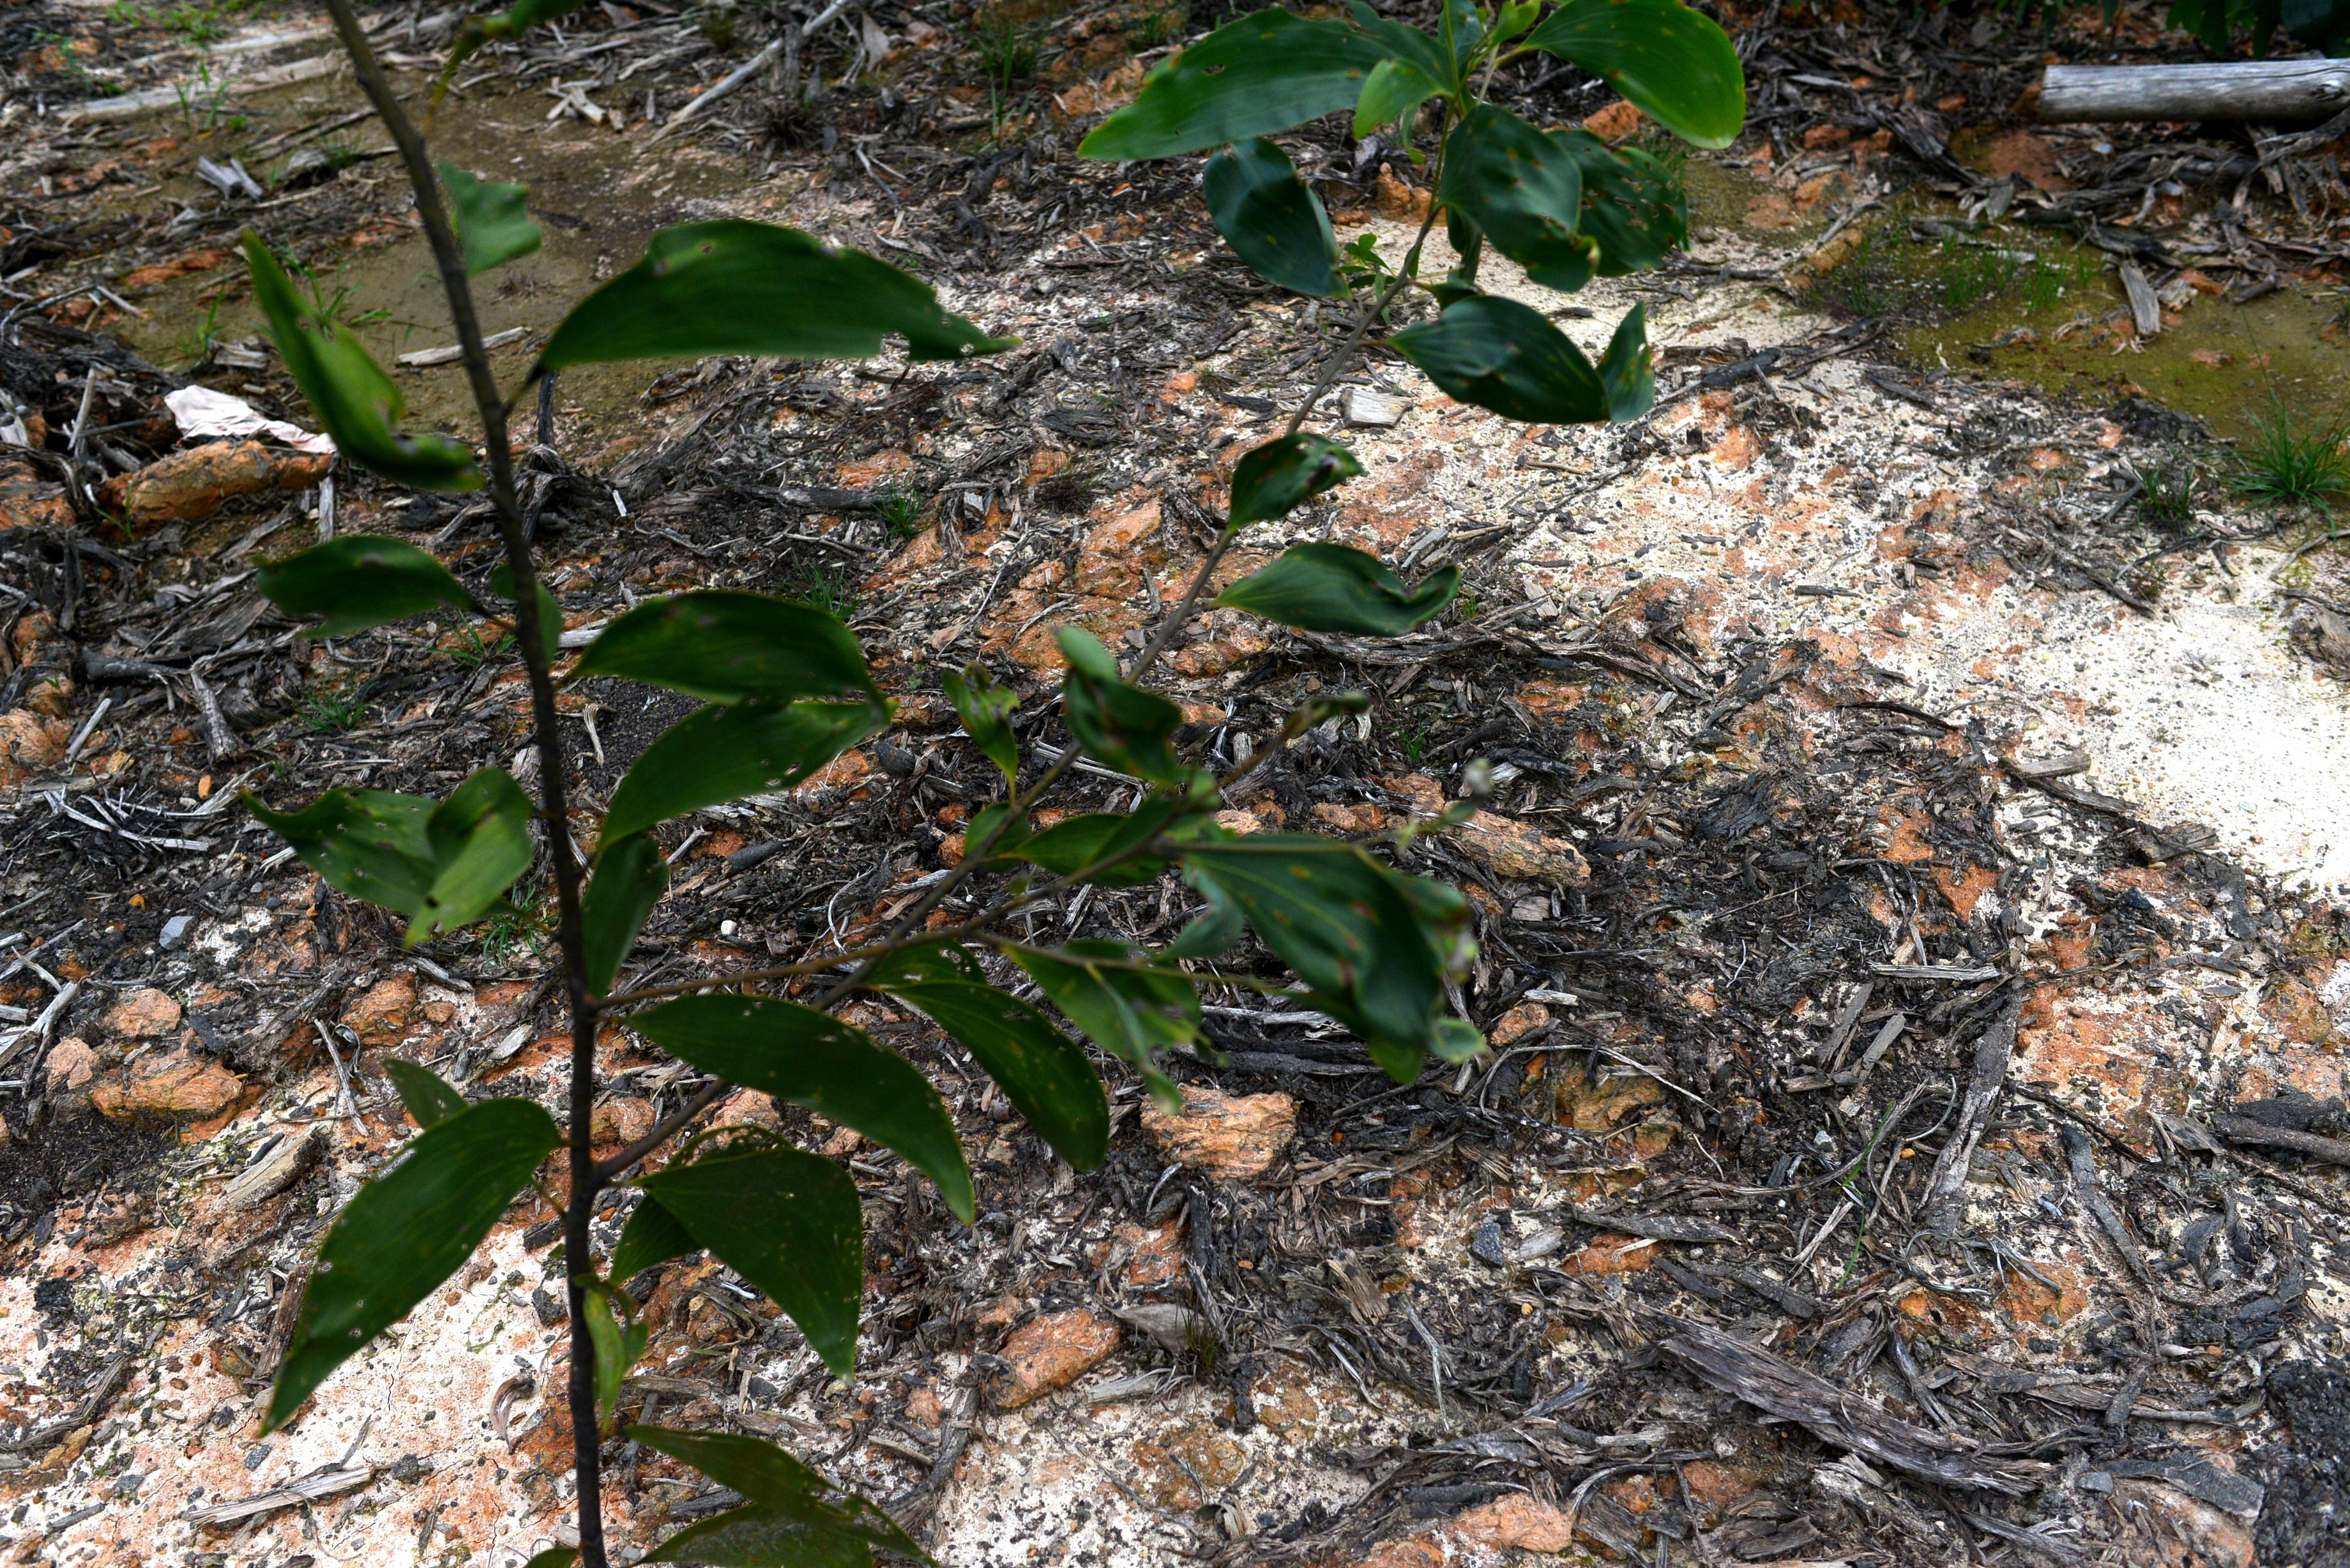Pasalora: (227, 212, 490, 523), (1389, 255, 1634, 448), (1269, 824, 1466, 1055), (576, 597, 864, 703), (1237, 525, 1466, 654), (1451, 100, 1603, 280), (1025, 607, 1183, 779)
